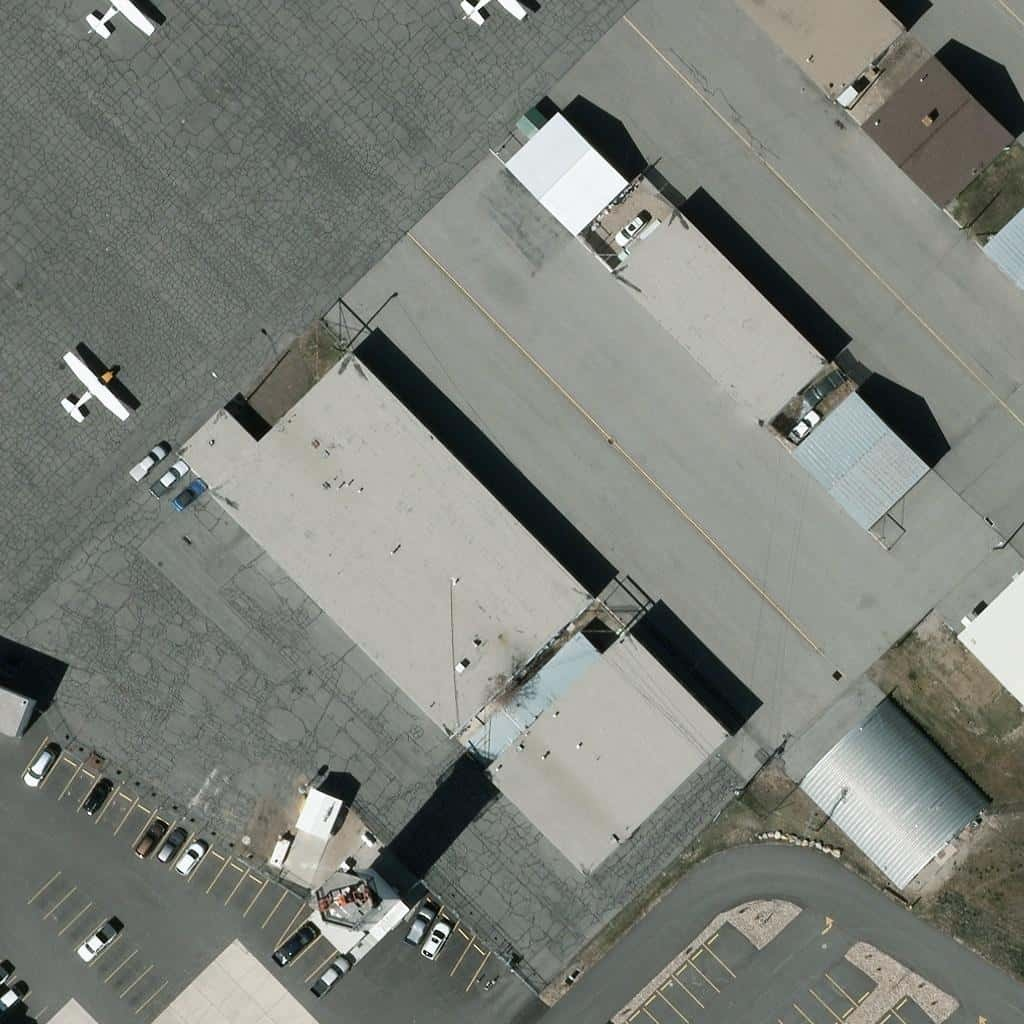plane: (58, 349, 133, 424), (85, 1, 157, 45), (459, 1, 531, 45)
